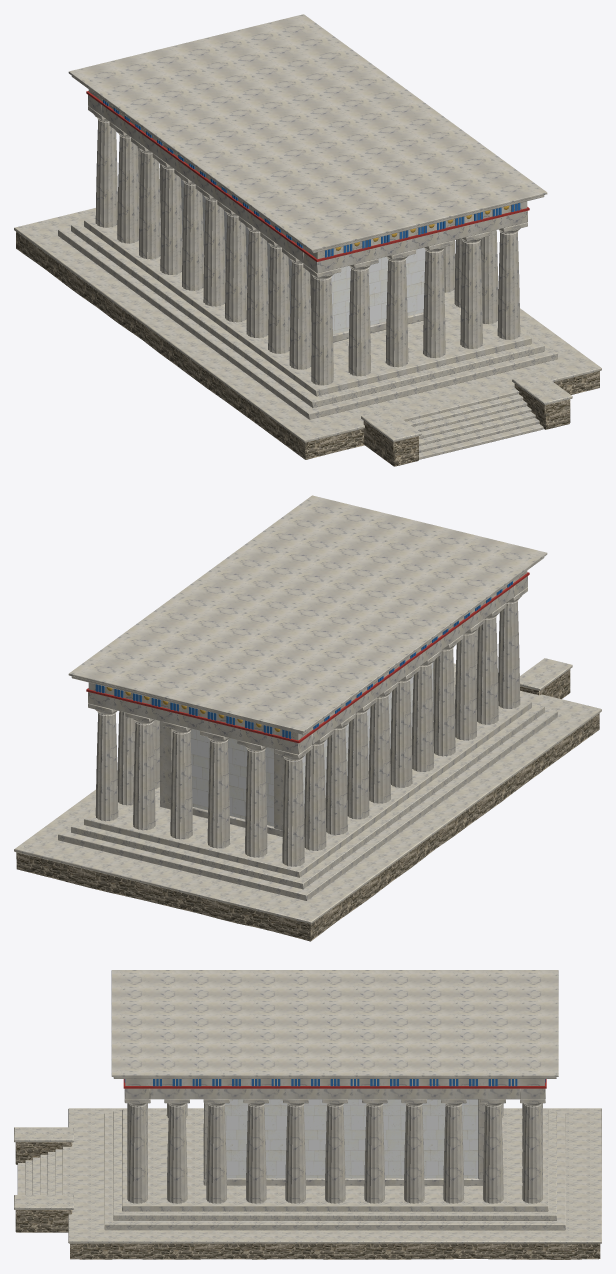
Rendered from civic_temple-zeus_stage3.glb.
3 views of the same model, one above another, from view 1: azimuth 30°, elevation 25°; view 2: azimuth 150°, elevation 25°; view 3: azimuth 270°, elevation 25° (orthographic). The views are drawn at different scales.
Parts seen in each view (by area): view 1: marble, step, stone, hall.001, red, azure; view 2: marble, step, stone, hall.001, red, azure; view 3: marble, step, hall.001, stone, azure, red.
Boxes of the visible parts, <box> form: marble: <box>68,14,547,385</box>; step: <box>14,208,601,459</box>; stone: <box>16,232,599,466</box>; hall.001: <box>181,179,425,334</box>; red: <box>86,91,529,261</box>; azure: <box>103,100,520,257</box>; marble: <box>68,495,547,866</box>; step: <box>14,658,601,923</box>; stone: <box>16,669,599,941</box>; hall.001: <box>190,662,433,826</box>; red: <box>86,572,529,743</box>; azure: <box>95,581,512,738</box>; marble: <box>111,970,558,1203</box>; step: <box>14,1108,601,1243</box>; hall.001: <box>225,1099,478,1178</box>; stone: <box>15,1142,600,1259</box>; azure: <box>124,1079,545,1086</box>; red: <box>123,1079,546,1088</box>.
Size of the model in its own units: 15.16 by 9.09 by 28.28.
7 materials, 6 textured.
